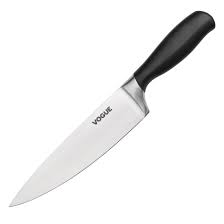knife: (7, 7, 218, 208)
